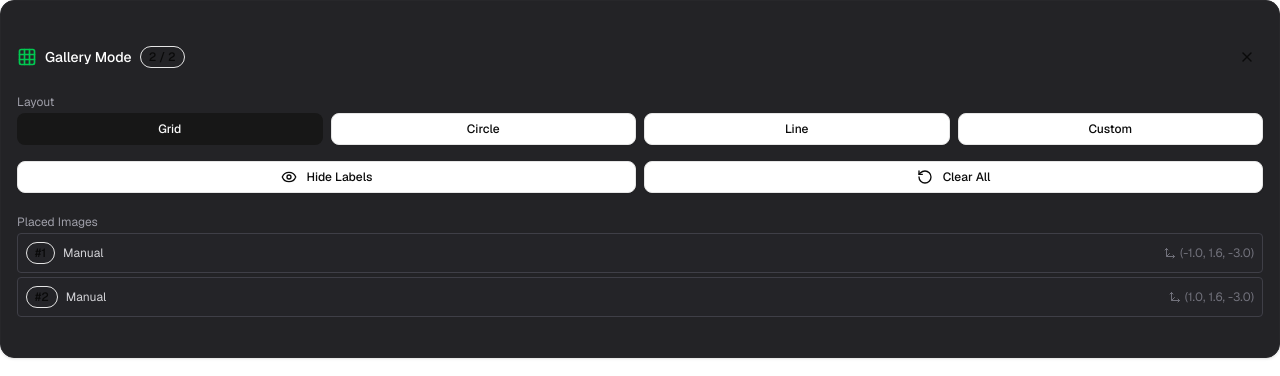
it: GalleryMode › toggles label visibility
The width and height of the screenshot is (1280, 376).
Click the button "Hide Labels" at (326, 177), box [17,161,636,193]
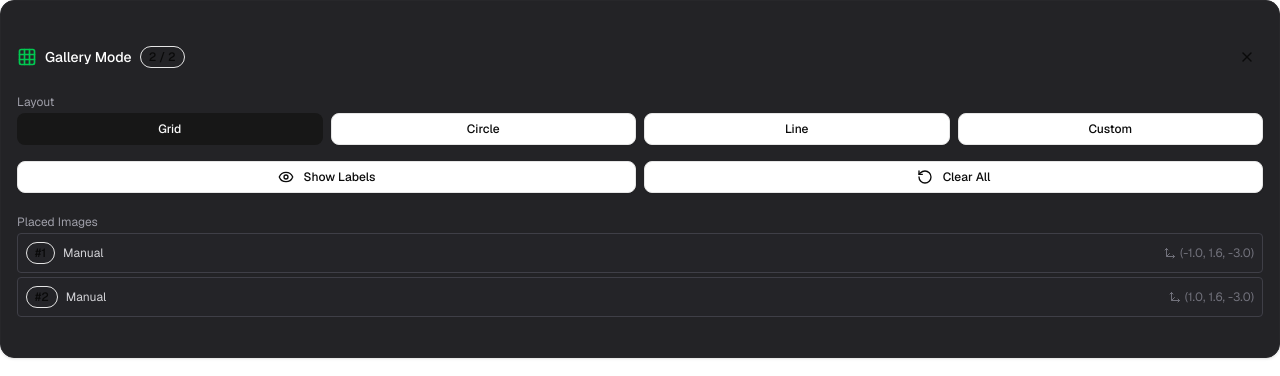
Now the button "Show Labels" is shown, box [17,161,636,193]
